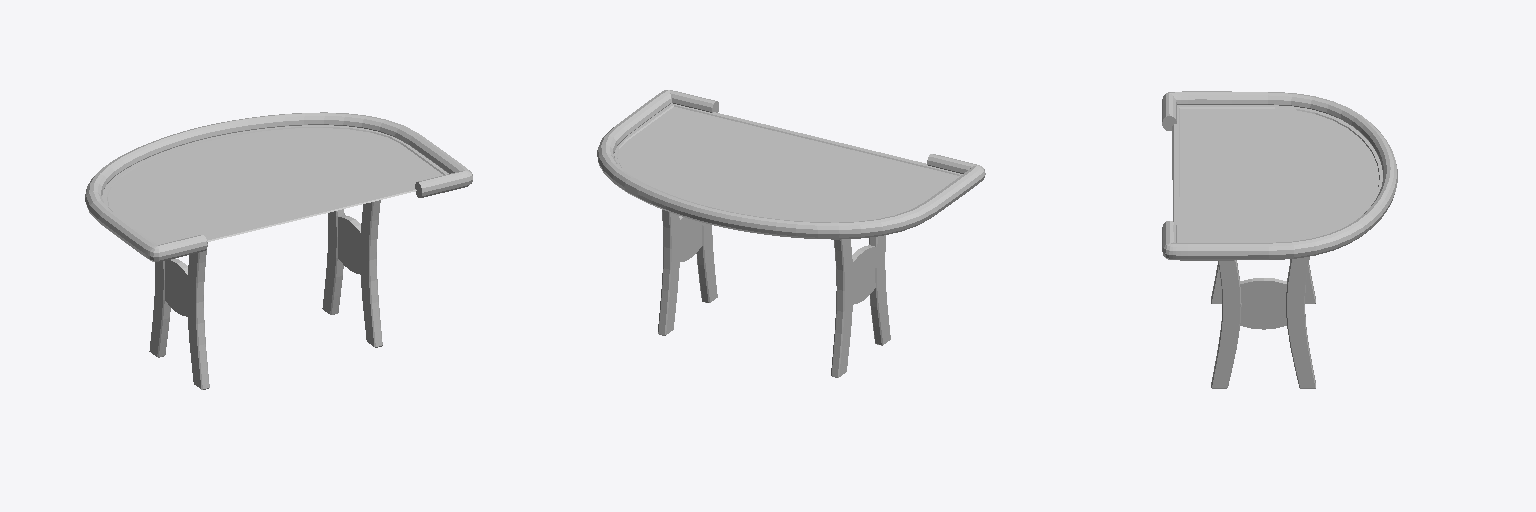
The model's file is BlackJackTable.obj.
3 views of the same model, side by side, from view 1: azimuth 30°, elevation 25°; view 2: azimuth 150°, elevation 25°; view 3: azimuth 270°, elevation 25° (orthographic).
Visible parts, largest first — view 1: Cube.019_Cube.006; view 2: Cube.019_Cube.006; view 3: Cube.019_Cube.006.
Boxes of the visible parts, box(x1,y1,x2,y2) form: Cube.019_Cube.006: box(85, 112, 472, 389); Cube.019_Cube.006: box(597, 90, 985, 377); Cube.019_Cube.006: box(1162, 91, 1397, 388).
Size of the model in its own units: 1.8 by 0.9275 by 1.13.